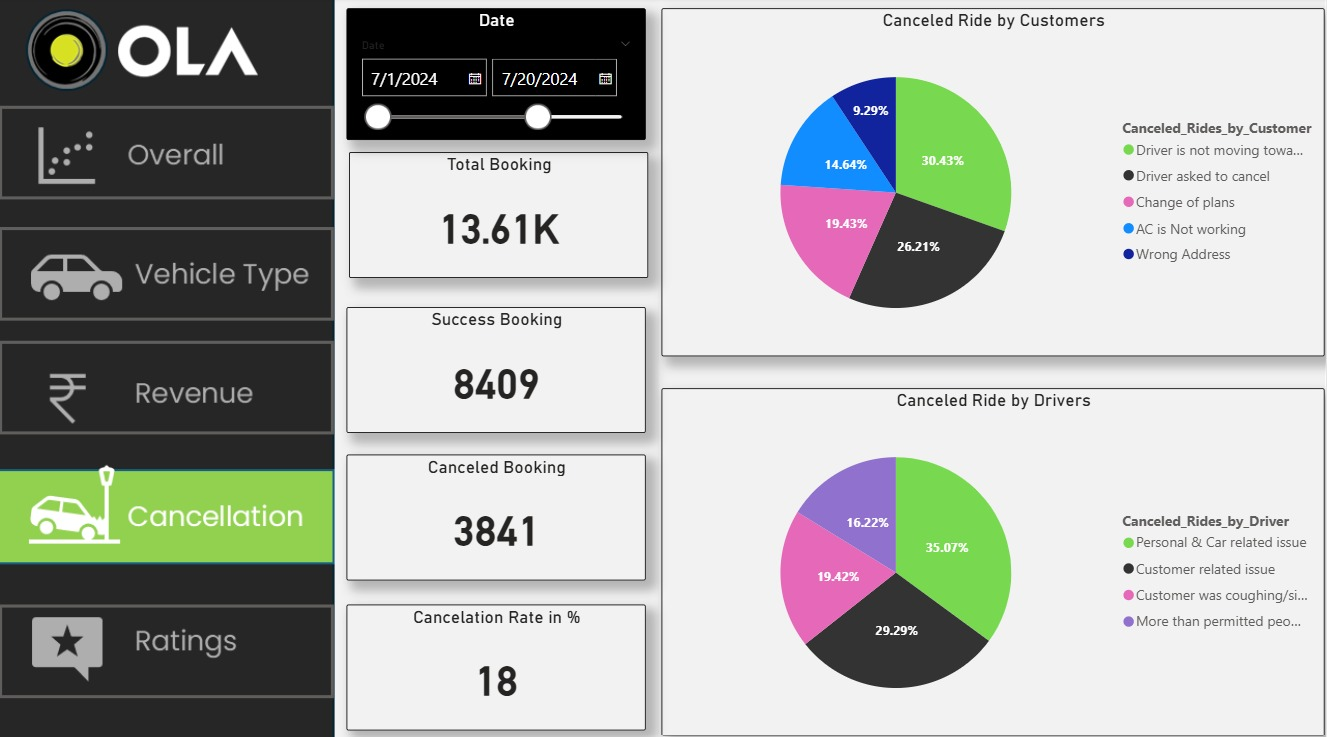

The page's visual inventory and layout, read from the dashboard file:
{"tool":"powerbi","page":{"name":"Cancellation","canvas":[1280,720],"ordinal":3},"visuals":[{"type":"actionButton","box":[0,222,323.3,90.5],"z":0},{"type":"actionButton","box":[0,331.8,323.3,90.5],"z":1000},{"type":"actionButton","box":[0,586.3,323.3,90.5],"z":2000},{"type":"actionButton","box":[0,105,323.3,90.5],"z":3000},{"type":"pieChart","title":"Canceled Ride by Customers","fields":{"Category":["July.Canceled_Rides_by_Customer"],"Y":["CountNonNull(July.Canceled_Rides_by_Customer)"]},"box":[640,11.2,640,336.2],"z":4000},{"type":"pieChart","title":"Canceled Ride by Drivers","fields":{"Category":["July.Canceled_Rides_by_Driver"],"Y":["CountNonNull(July.Canceled_Rides_by_Driver)"]},"box":[640,377.5,640,336.2],"z":5000},{"type":"slicer","title":"Date","fields":{"Values":["July.Date"]},"box":[335,11.2,288.8,127.5],"z":5001},{"type":"card","title":"Total Booking","fields":{"Values":["Count(July.Booking_ID)"]},"box":[337.5,150,288.8,121.2],"z":5002},{"type":"card","title":"Success Booking","fields":{"Values":["Count(July.Booking_ID)"]},"box":[335,298.8,288.8,121.2],"z":5003},{"type":"card","title":"Canceled Booking","fields":{"Values":["Count(July.Booking_ID)"]},"box":[335,441.2,288.8,121.2],"z":5004},{"type":"card","title":"Cancelation Rate in %","fields":{"Values":["July.Canceled Percentage"]},"box":[335,586.2,288.8,121.2],"z":5005}]}

Visuals, with their boxes in screenshot pixels (x1, y1, x2, y2), scaled from the page's 1280x720 canvas onto the 1327x737 screenshot:
actionButton: (0,227,335,320)
actionButton: (0,340,335,432)
actionButton: (0,600,335,693)
actionButton: (0,107,335,200)
"Canceled Ride by Customers" pieChart: (664,11,1326,356)
"Canceled Ride by Drivers" pieChart: (664,386,1326,731)
"Date" slicer: (347,11,647,142)
"Total Booking" card: (350,154,649,278)
"Success Booking" card: (347,306,647,430)
"Canceled Booking" card: (347,452,647,576)
"Cancelation Rate in %" card: (347,600,647,724)
